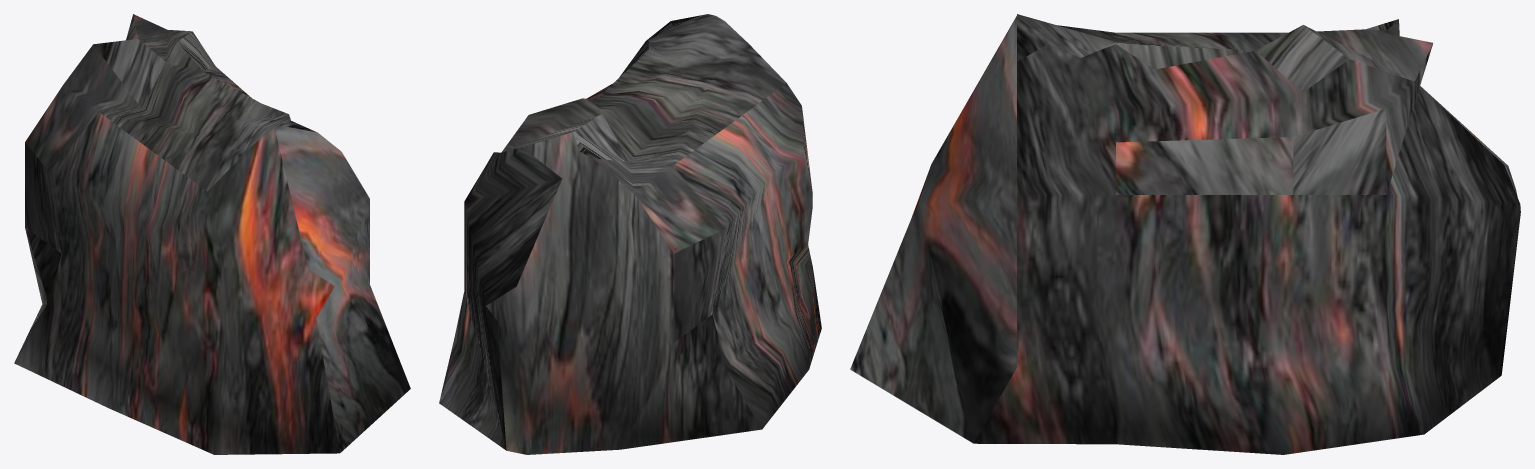
The model's file is Roca4.fbx.
3 views of the same model, side by side, from view 1: azimuth 30°, elevation 25°; view 2: azimuth 150°, elevation 25°; view 3: azimuth 270°, elevation 25° (orthographic). The views are drawn at different scales.
Parts seen in each view (by area): view 1: Cube; view 2: Cube; view 3: Cube.
Boxes of the visible parts, x1,y1,x2,y2 form: Cube: (14, 14, 410, 454); Cube: (439, 14, 821, 454); Cube: (850, 14, 1520, 454).
Bounding box in the file's own units: 431 × 417 × 678.
